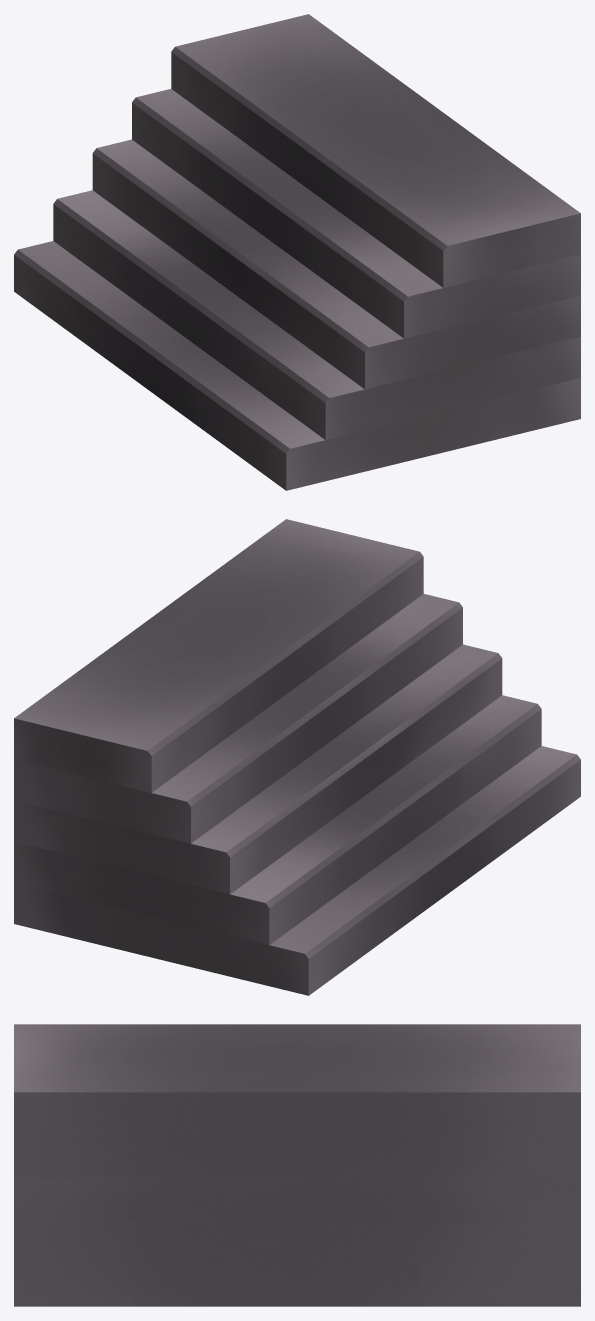
Rendered from BetaBroadStairs.fbx.
The picture shows the model from 3 angles, top to bottom: view 1: azimuth 30°, elevation 25°; view 2: azimuth 150°, elevation 25°; view 3: azimuth 270°, elevation 25°; orthographic projection. The views are drawn at different scales.
Visible parts, largest first — view 1: BroadStairs; view 2: BroadStairs; view 3: BroadStairs.
Boxes of the visible parts, x1,y1,x2,y2 form: BroadStairs: (14,14,580,490); BroadStairs: (14,519,580,995); BroadStairs: (14,1024,580,1306).
Bounding box in the file's own units: 1.5 × 1 × 2.4.
